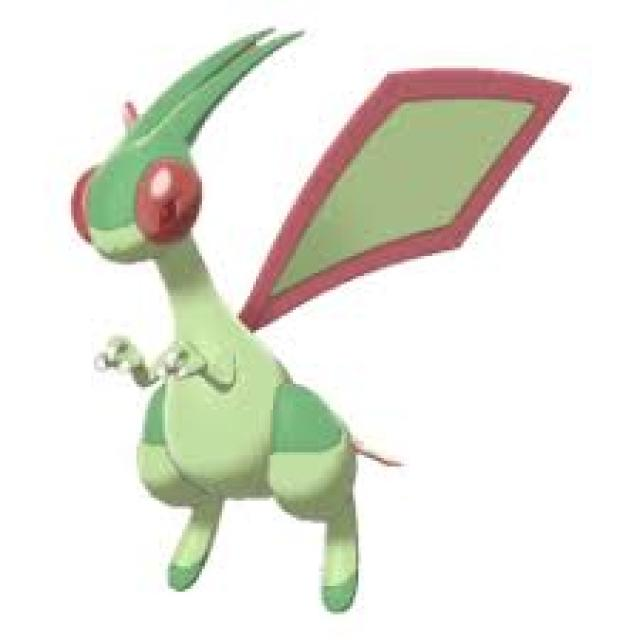flygon: (70, 26, 574, 613)
